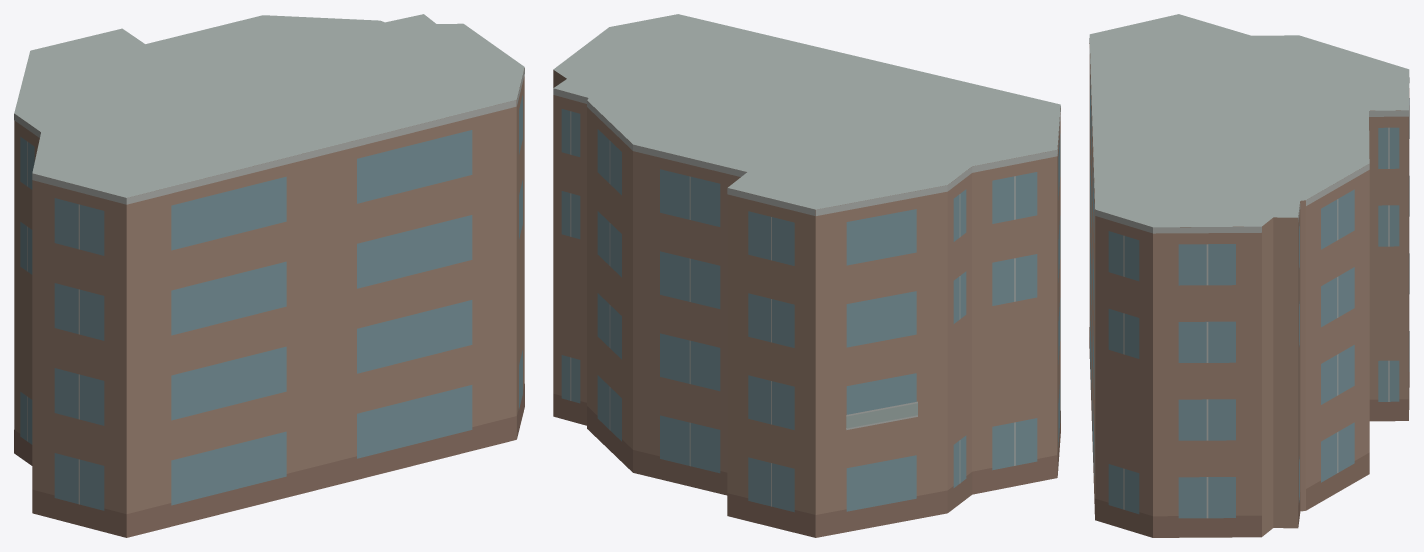
File: survey-upis-33008476.glb
3 views of the same model, side by side, from view 1: azimuth 30°, elevation 25°; view 2: azimuth 150°, elevation 25°; view 3: azimuth 270°, elevation 25° (orthographic). The views are drawn at different scales.
Visible parts, largest first — view 1: survey-upis-33008476.tmp; view 2: survey-upis-33008476.tmp; view 3: survey-upis-33008476.tmp.
Part boxes in pixels (bbox=[...]): survey-upis-33008476.tmp: bbox=[14, 14, 524, 537]; survey-upis-33008476.tmp: bbox=[553, 14, 1060, 537]; survey-upis-33008476.tmp: bbox=[1089, 14, 1409, 537].
Bounding box in the file's own units: 17.98 × 12.2 × 11.4.
